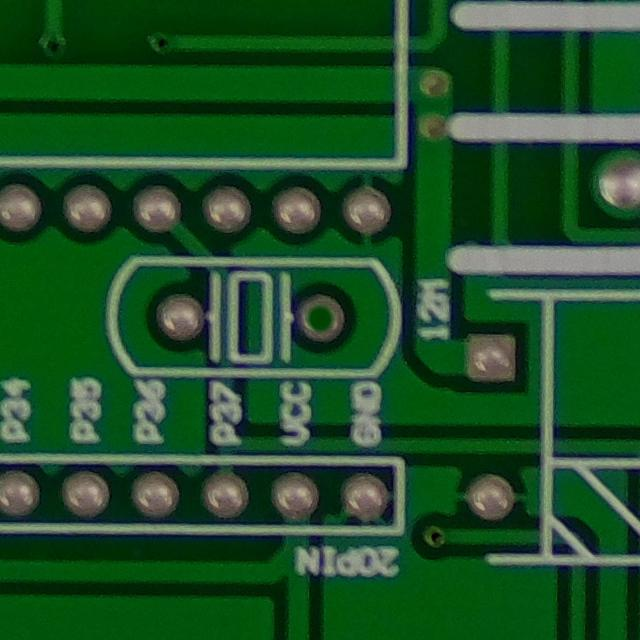missing_hole: (286, 285, 354, 355)
